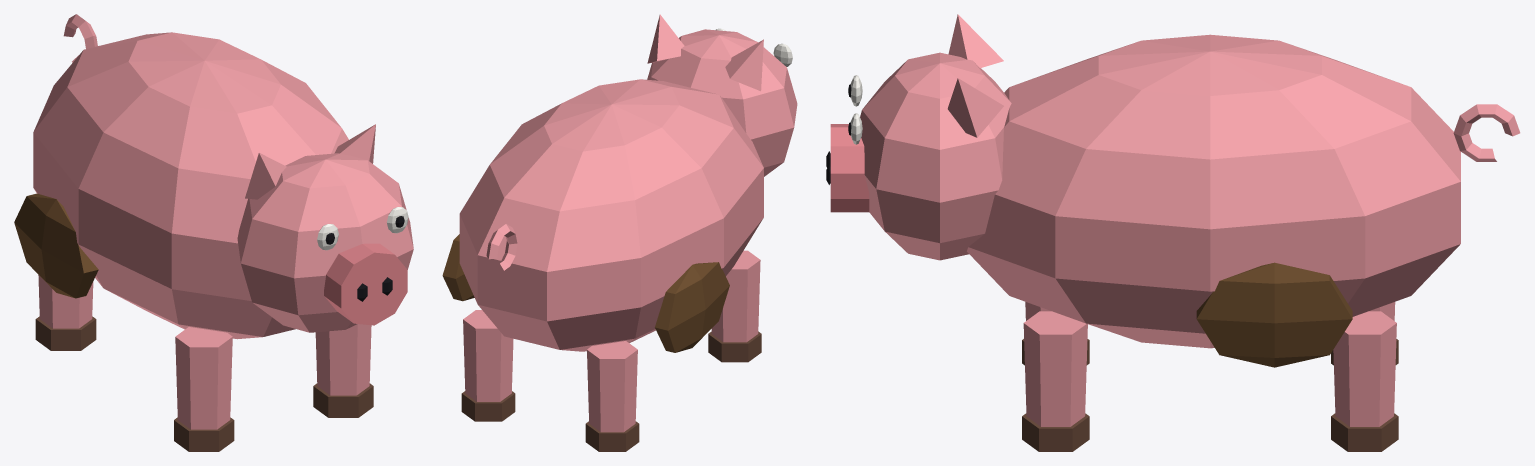
The model's file is farm_pig.glb.
3 renders of one model, left to right at view 1: azimuth 30°, elevation 25°; view 2: azimuth 150°, elevation 25°; view 3: azimuth 270°, elevation 25°, orthographic. The views are drawn at different scales.
Visible parts, largest first — view 1: body_farm_pink, head_farm_pink, legs_farm_pink, mud_pig_mud, head_pig_snout, legs_pig_hoof, face_white, tail_farm_pink; view 2: body_farm_pink, head_farm_pink, legs_farm_pink, mud_pig_mud, legs_pig_hoof, tail_farm_pink; view 3: body_farm_pink, head_farm_pink, legs_farm_pink, mud_pig_mud, legs_pig_hoof, head_pig_snout, tail_farm_pink.
Boxes of the visible parts, x1,y1,x2,y2 form: body_farm_pink: (33,32,348,339); head_farm_pink: (237,124,413,332); legs_farm_pink: (38,275,371,429); mud_pig_mud: (14,193,98,298); head_pig_snout: (324,243,407,325); legs_pig_hoof: (35,316,373,451); face_white: (317,207,408,250); tail_farm_pink: (63,14,97,62); body_farm_pink: (459,79,763,351); head_farm_pink: (647,14,797,176); legs_farm_pink: (463,250,760,432); mud_pig_mud: (442,234,729,352); legs_pig_hoof: (461,331,761,451); tail_farm_pink: (486,224,517,270); body_farm_pink: (967,34,1460,348); head_farm_pink: (860,14,1011,260); legs_farm_pink: (1023,302,1396,426); mud_pig_mud: (1196,262,1352,367); legs_pig_hoof: (1022,339,1398,451); head_pig_snout: (830,124,869,212); tail_farm_pink: (1453,104,1520,161).
Bounding box in the file's own units: 0.54 × 0.6096 × 1.08.
